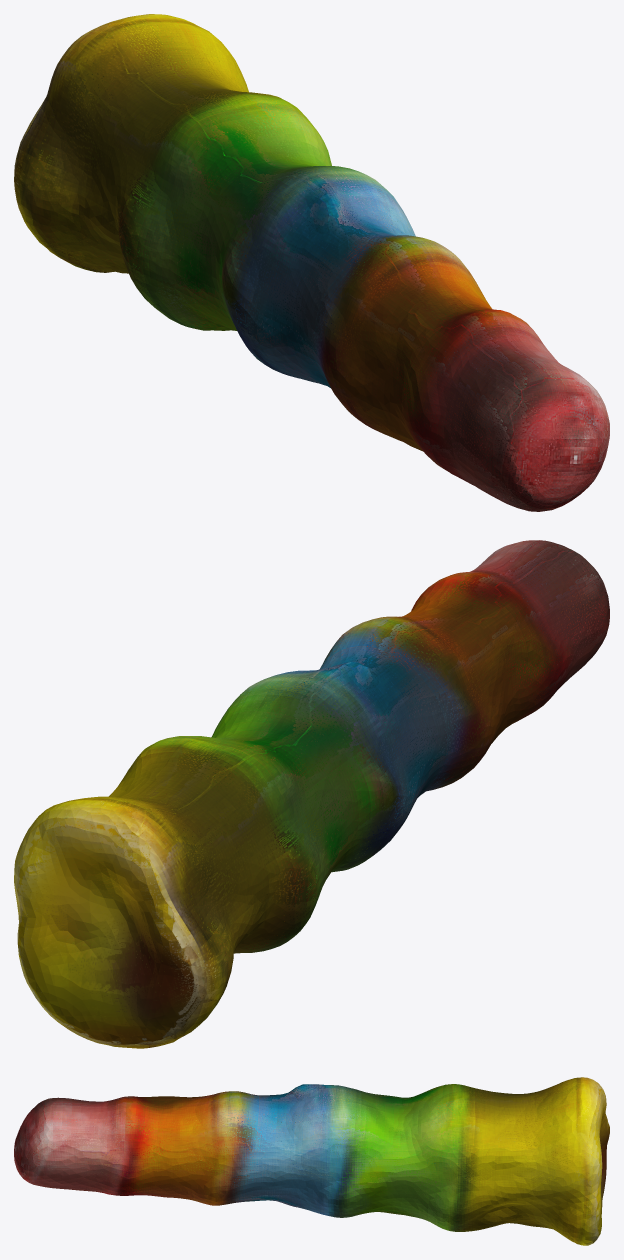
The model's file is stucking_cups.glb.
3 renders of one model, top to bottom at view 1: azimuth 30°, elevation 25°; view 2: azimuth 150°, elevation 25°; view 3: azimuth 270°, elevation 25°, orthographic. The views are drawn at different scales.
Visible parts, largest first — view 1: world; view 2: world; view 3: world.
Boxes of the visible parts, left/top/right/bottom form: world: left=14, top=14, right=609, bottom=511; world: left=14, top=540, right=609, bottom=1048; world: left=14, top=1077, right=609, bottom=1245.
Bounding box in the file's own units: 0.2581 × 0.2848 × 1.
Materials: 1 (1 with a texture image).
